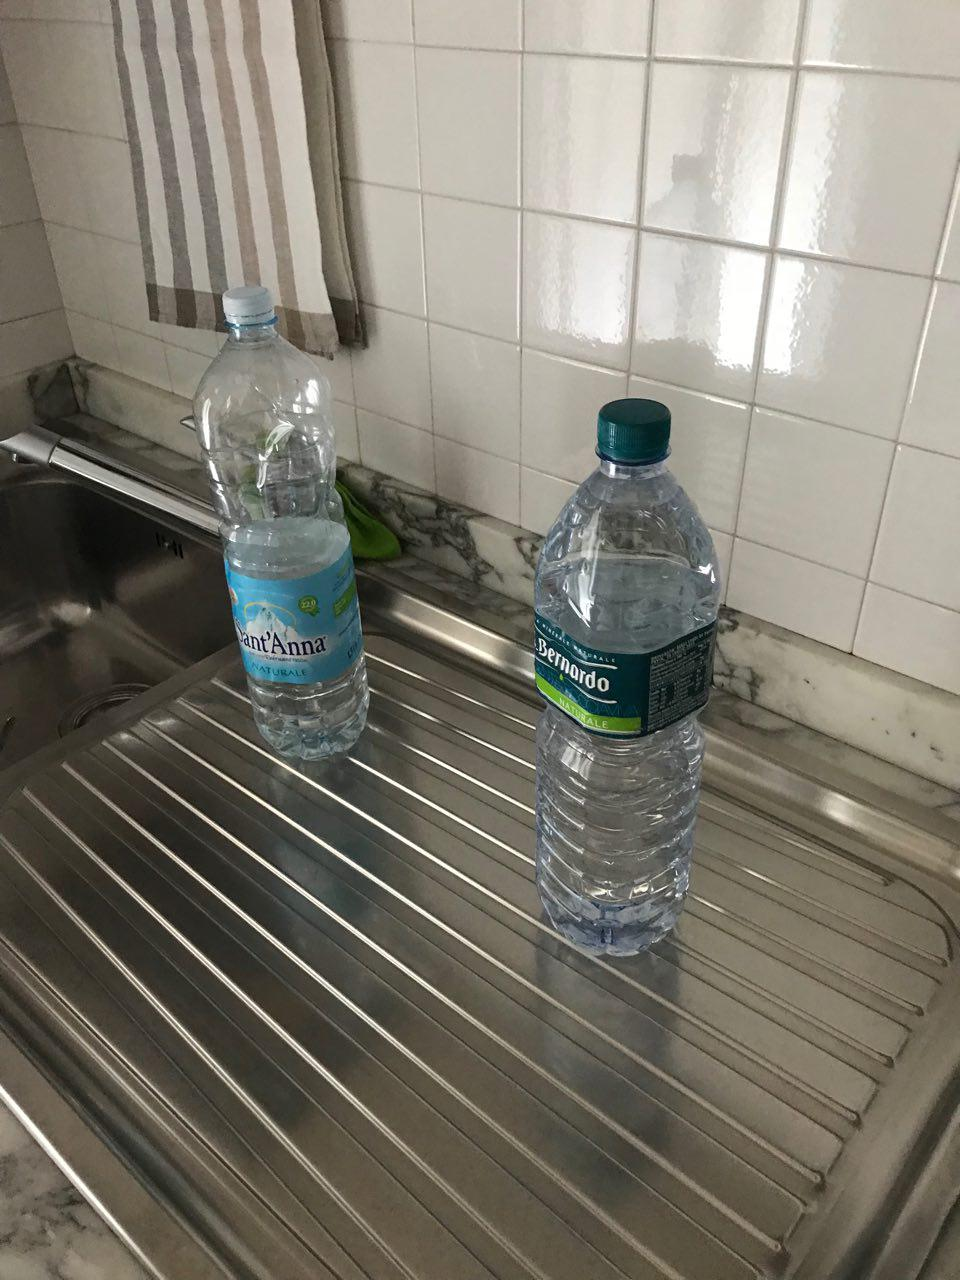san_bernardo: (532, 397, 720, 956)
